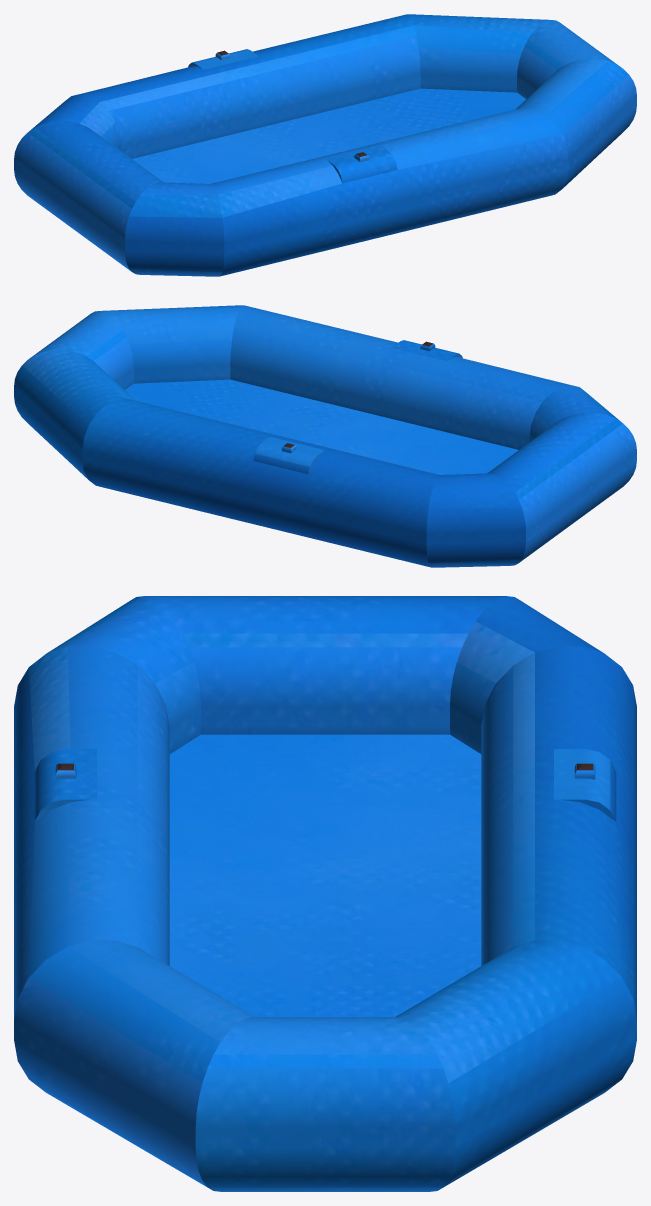
The model's file is cano2.fbx.
The picture shows the model from 3 angles, top to bottom: view 1: azimuth 30°, elevation 25°; view 2: azimuth 150°, elevation 25°; view 3: azimuth 270°, elevation 25°; orthographic projection. The views are drawn at different scales.
Parts seen in each view (by area): view 1: Fillet2; view 2: Fillet2; view 3: Fillet2.
Boxes of the visible parts, x1=… form: Fillet2: x1=14, y1=14, x2=636, y2=276; Fillet2: x1=14, y1=305, x2=636, y2=567; Fillet2: x1=14, y1=596, x2=636, y2=1191.
Bounding box in the file's own units: 8.74 × 1.42 × 4.72.
1 material, 1 textured.
